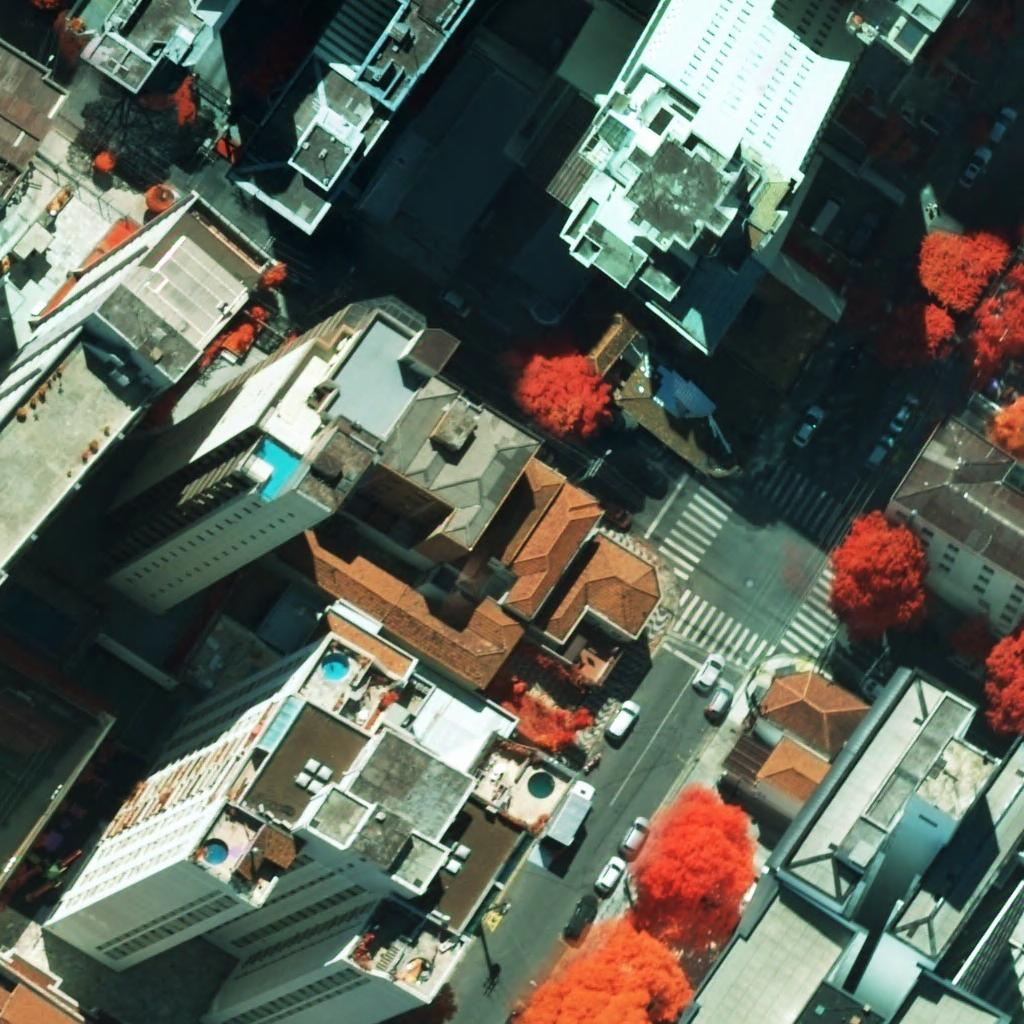pool: (252, 436, 301, 499), (527, 772, 556, 799), (203, 838, 228, 865), (323, 654, 349, 679)
